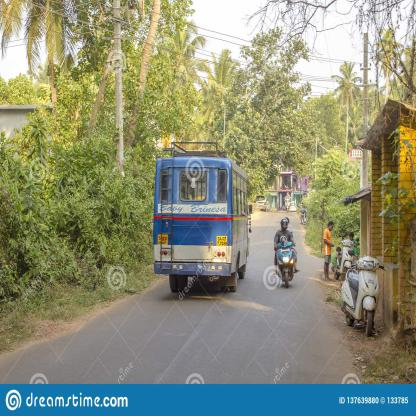bus: (93, 72, 150, 149)
motorcycle: (206, 130, 233, 170), (165, 110, 180, 146), (202, 121, 214, 142)
